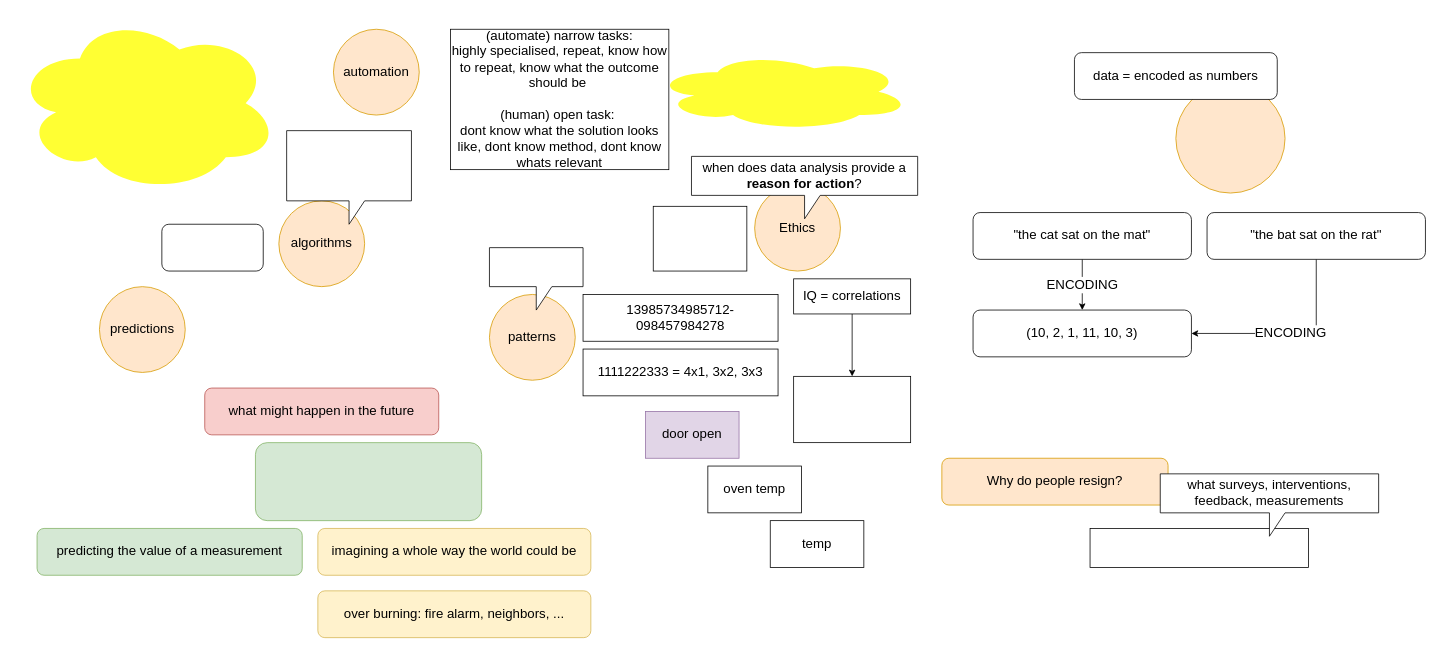
This 1439x651 diagram has some shape labels left out. The shapes that lost their labels are listed below. From the top down, each one's centre as x and y in pixels, then its label:
[145,103]: What's relevant to Data Mining & Machine Learning?
[781,91]: Why Data Mining?
[1230,138]: data formats
[348,177]: a sequence of operations to follow
[212,247]: switch on switch off switch on
[699,238]: why both without actions?
[536,278]: repeatable, summary
[852,409]: reason = profiling, admitting, excluding,
[368,481]: is "predicting a quantity/measure" the same as predicting in general?
[1198,547]: Experimental Design
